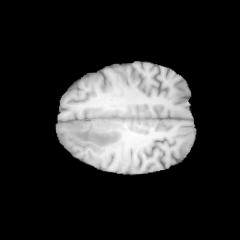glioma: (68, 120, 121, 146)
